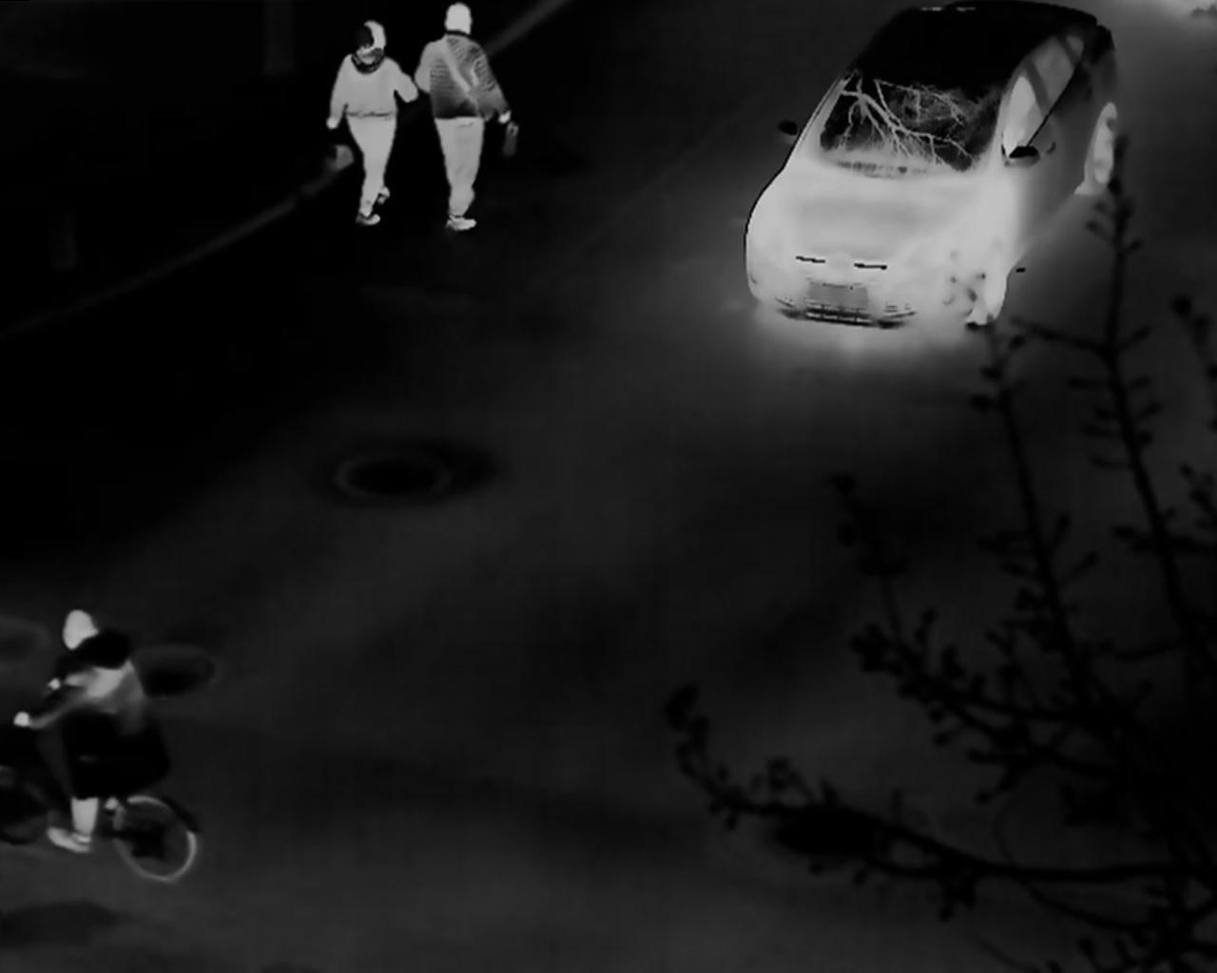person: (12, 608, 142, 855), (322, 21, 416, 227)
